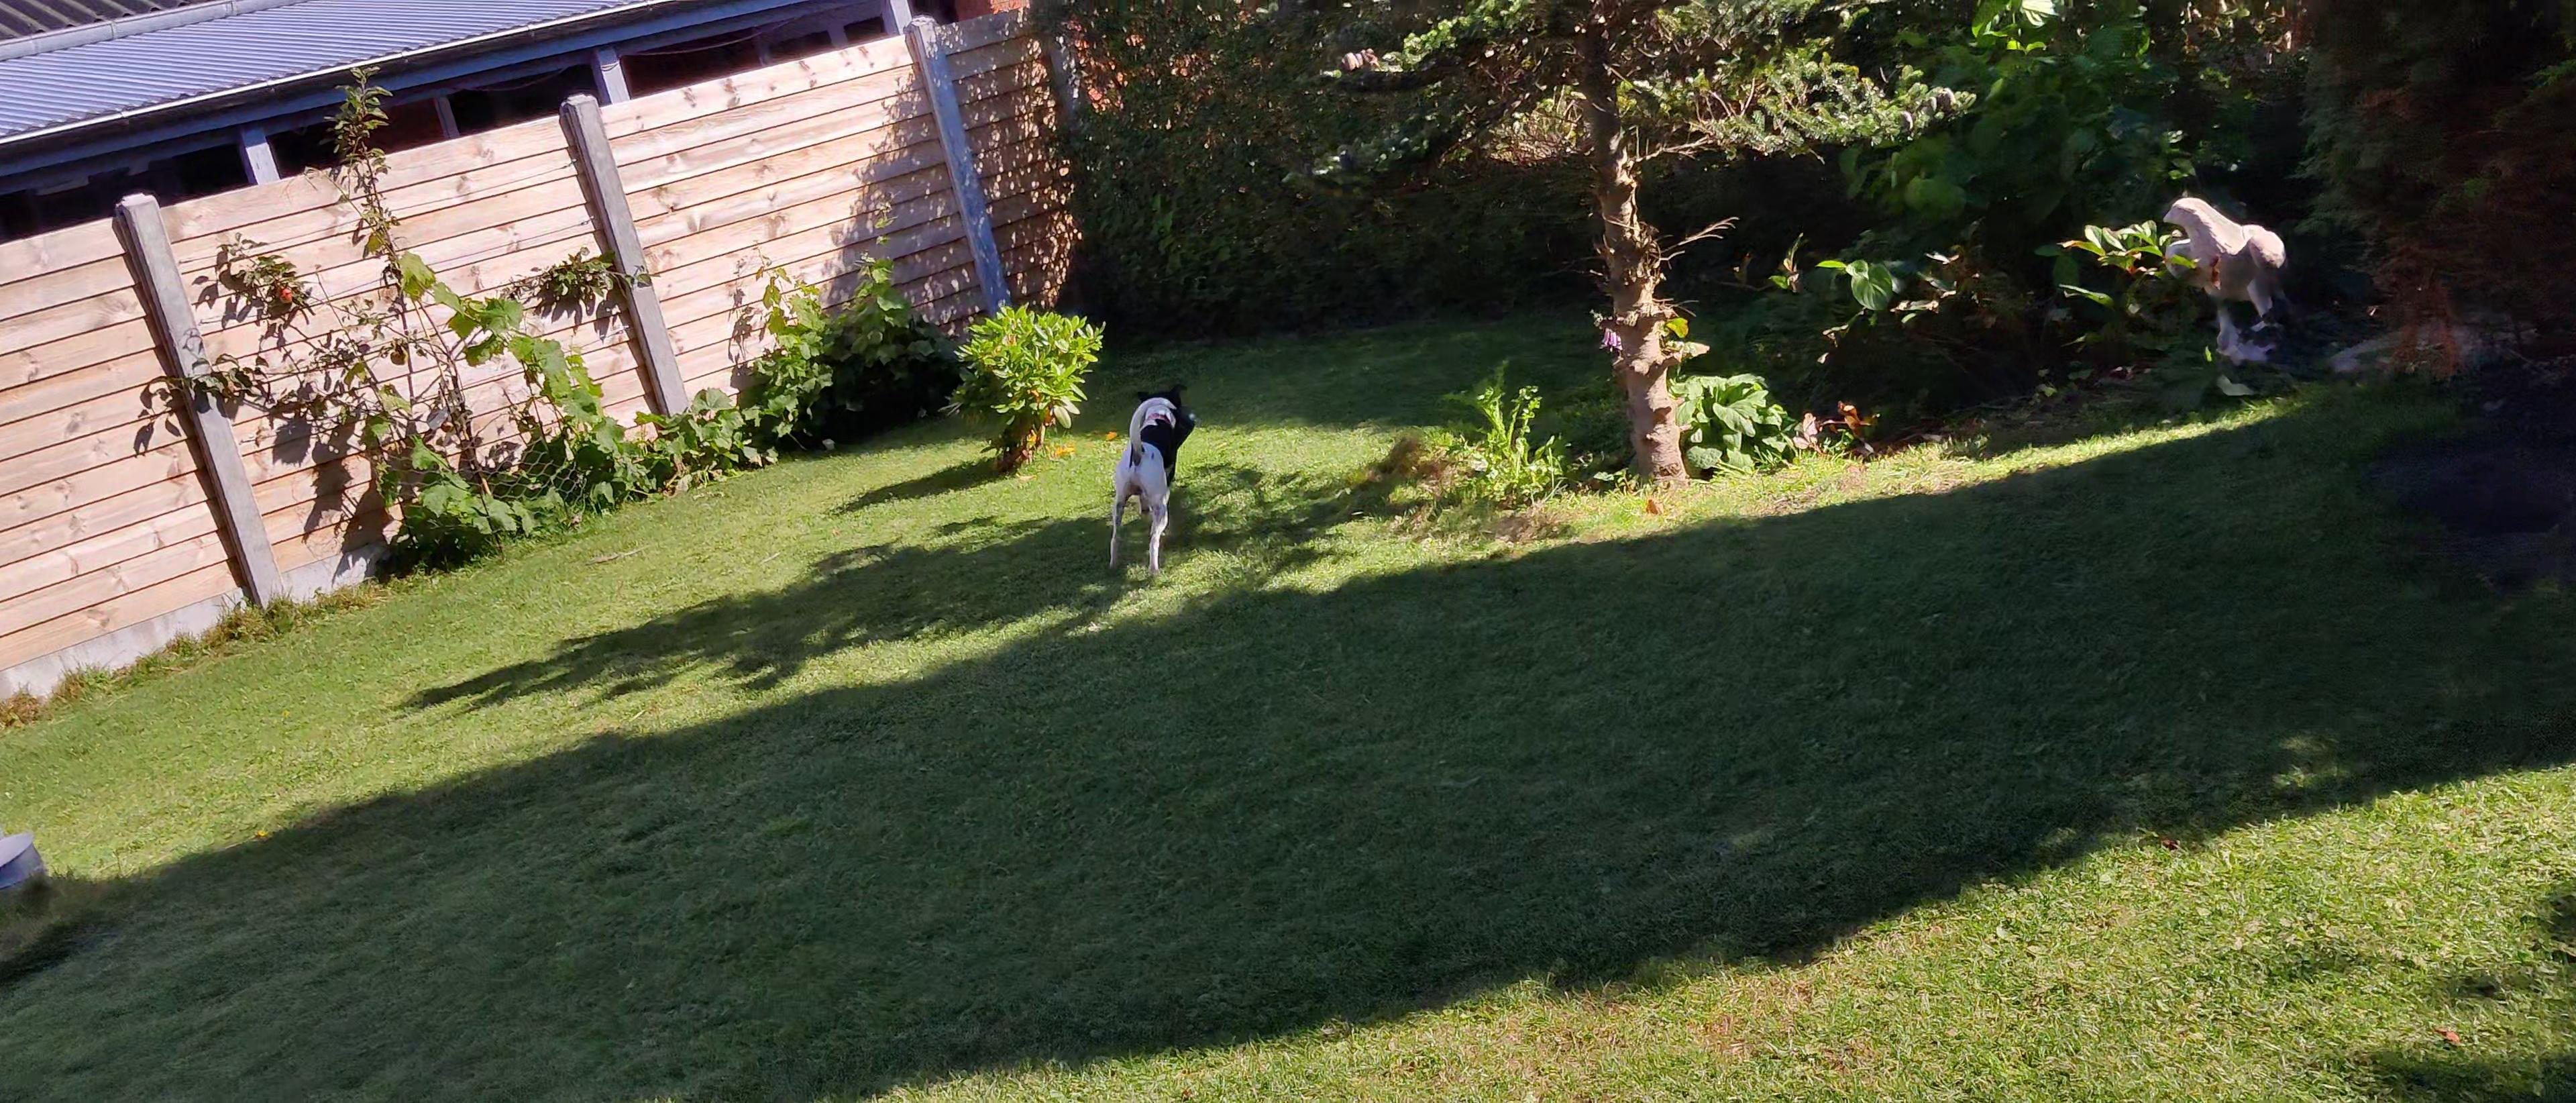Dog: (1101, 383, 1203, 574)
